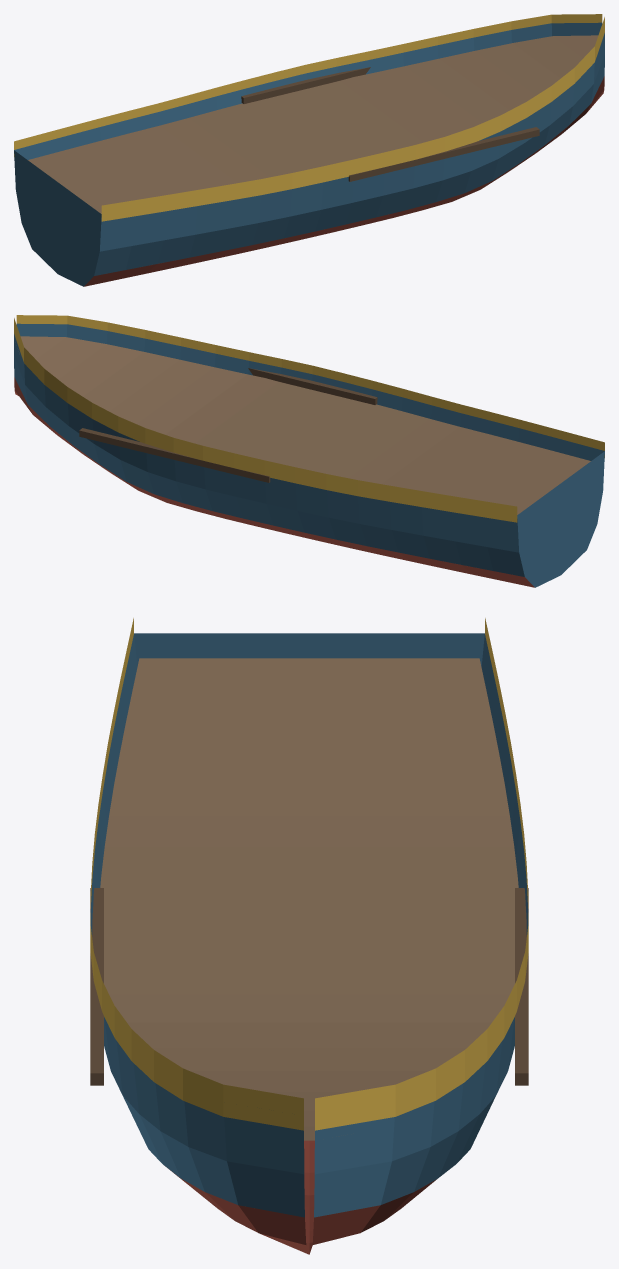
The model's file is sandal-mavi.glb.
3 renders of one model, top to bottom at view 1: azimuth 30°, elevation 25°; view 2: azimuth 150°, elevation 25°; view 3: azimuth 270°, elevation 25°, orthographic. The views are drawn at different scales.
Parts seen in each view (by area): view 1: ahsap, tekne_mavi, tekne_sari, karina, ahsap_koyu; view 2: ahsap, tekne_mavi, tekne_sari, karina, ahsap_koyu; view 3: ahsap, tekne_mavi, tekne_sari, karina, ahsap_koyu.
Boxes of the visible parts, box(x1,y1,x2,y2) form: ahsap: box(28, 35, 598, 213); tekne_mavi: box(14, 22, 604, 286); tekne_sari: box(14, 14, 604, 221); karina: box(84, 76, 604, 286); ahsap_koyu: box(241, 67, 539, 181); ahsap: box(20, 336, 590, 514); tekne_mavi: box(14, 323, 604, 587); tekne_sari: box(14, 315, 604, 522); karina: box(14, 377, 534, 587); ahsap_koyu: box(79, 368, 377, 482); ahsap: box(100, 658, 518, 1140); tekne_mavi: box(90, 633, 528, 1217); tekne_sari: box(90, 618, 528, 1130); karina: box(165, 1140, 436, 1254); ahsap_koyu: box(90, 888, 528, 1085).
Bounding box in the file's own units: 4.6 × 1.02 × 1.6.
